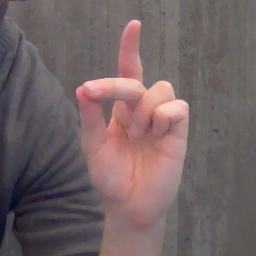K: (75, 18, 191, 215)
